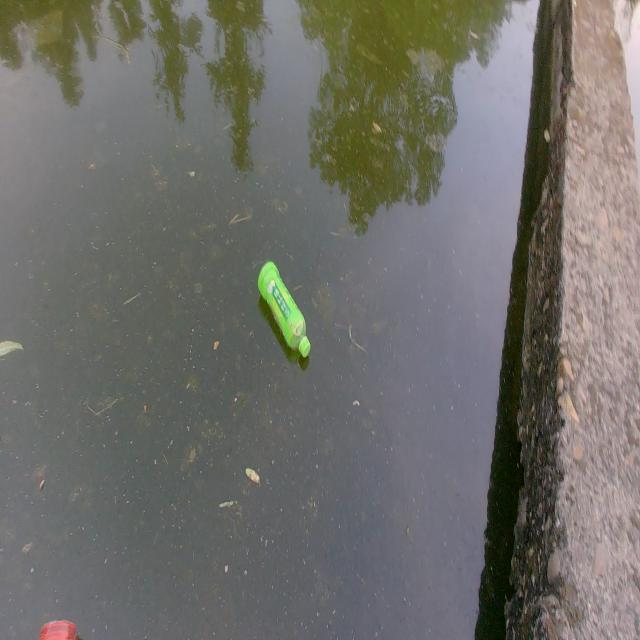bottle: (247, 242, 318, 368)
